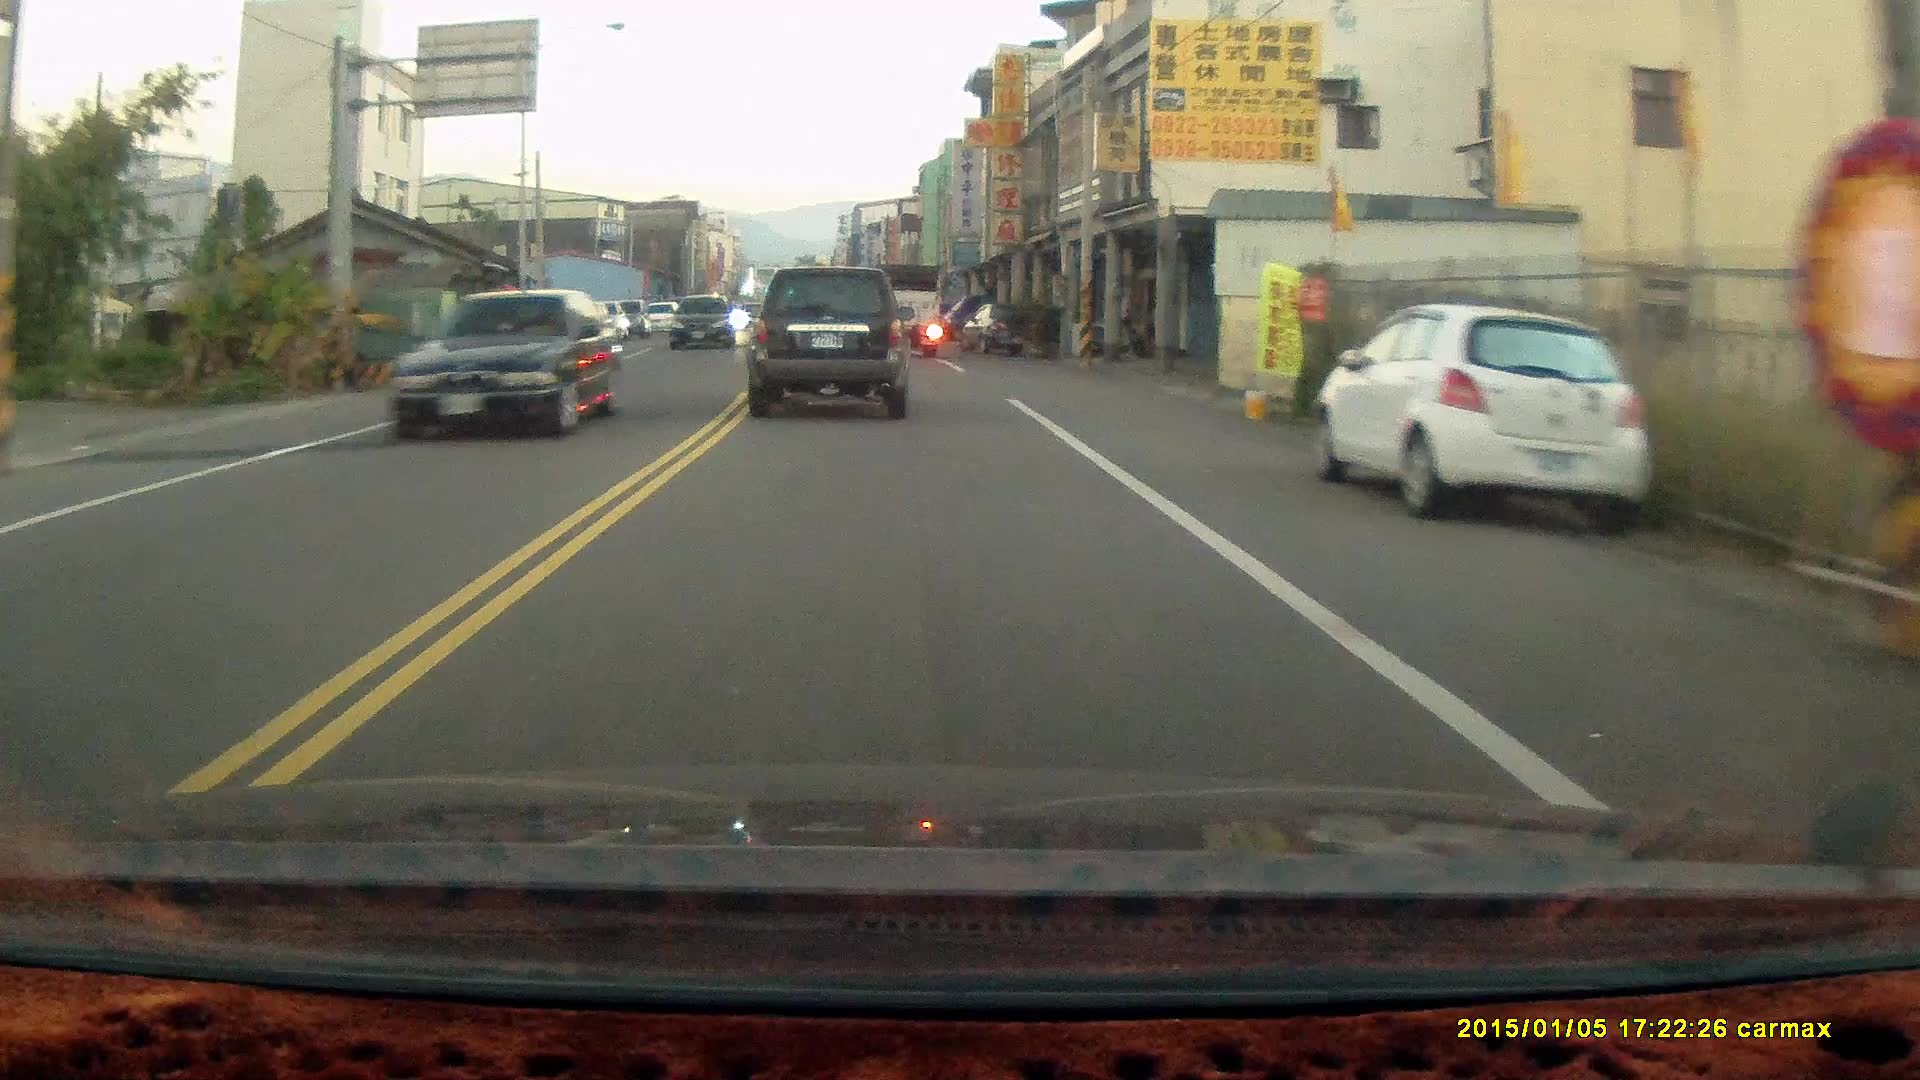vehicle: (1316, 303, 1646, 530), (385, 285, 629, 443), (745, 266, 918, 422), (870, 261, 947, 359), (666, 295, 738, 351)
